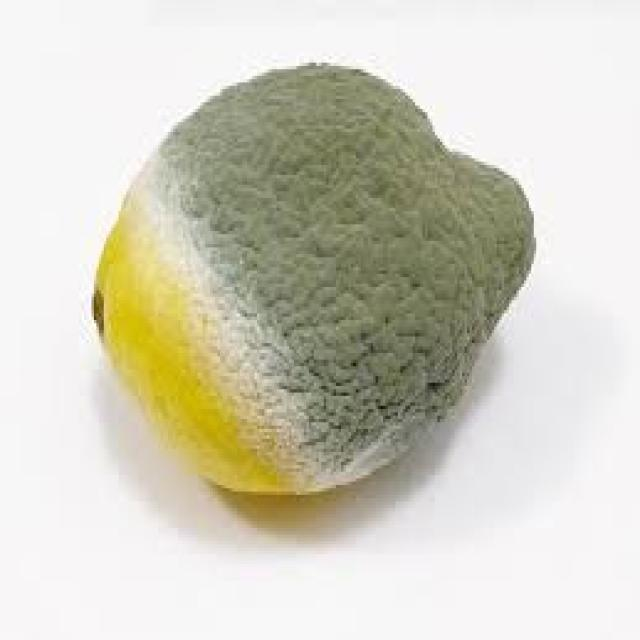Rotten: (93, 61, 537, 497)
